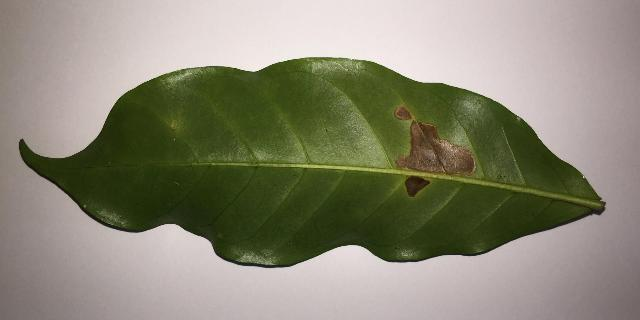cercospora: (394, 106, 476, 175), (405, 176, 429, 196)
